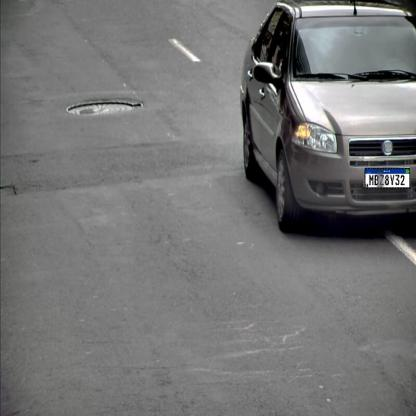PlacaM: (364, 167, 410, 188)
